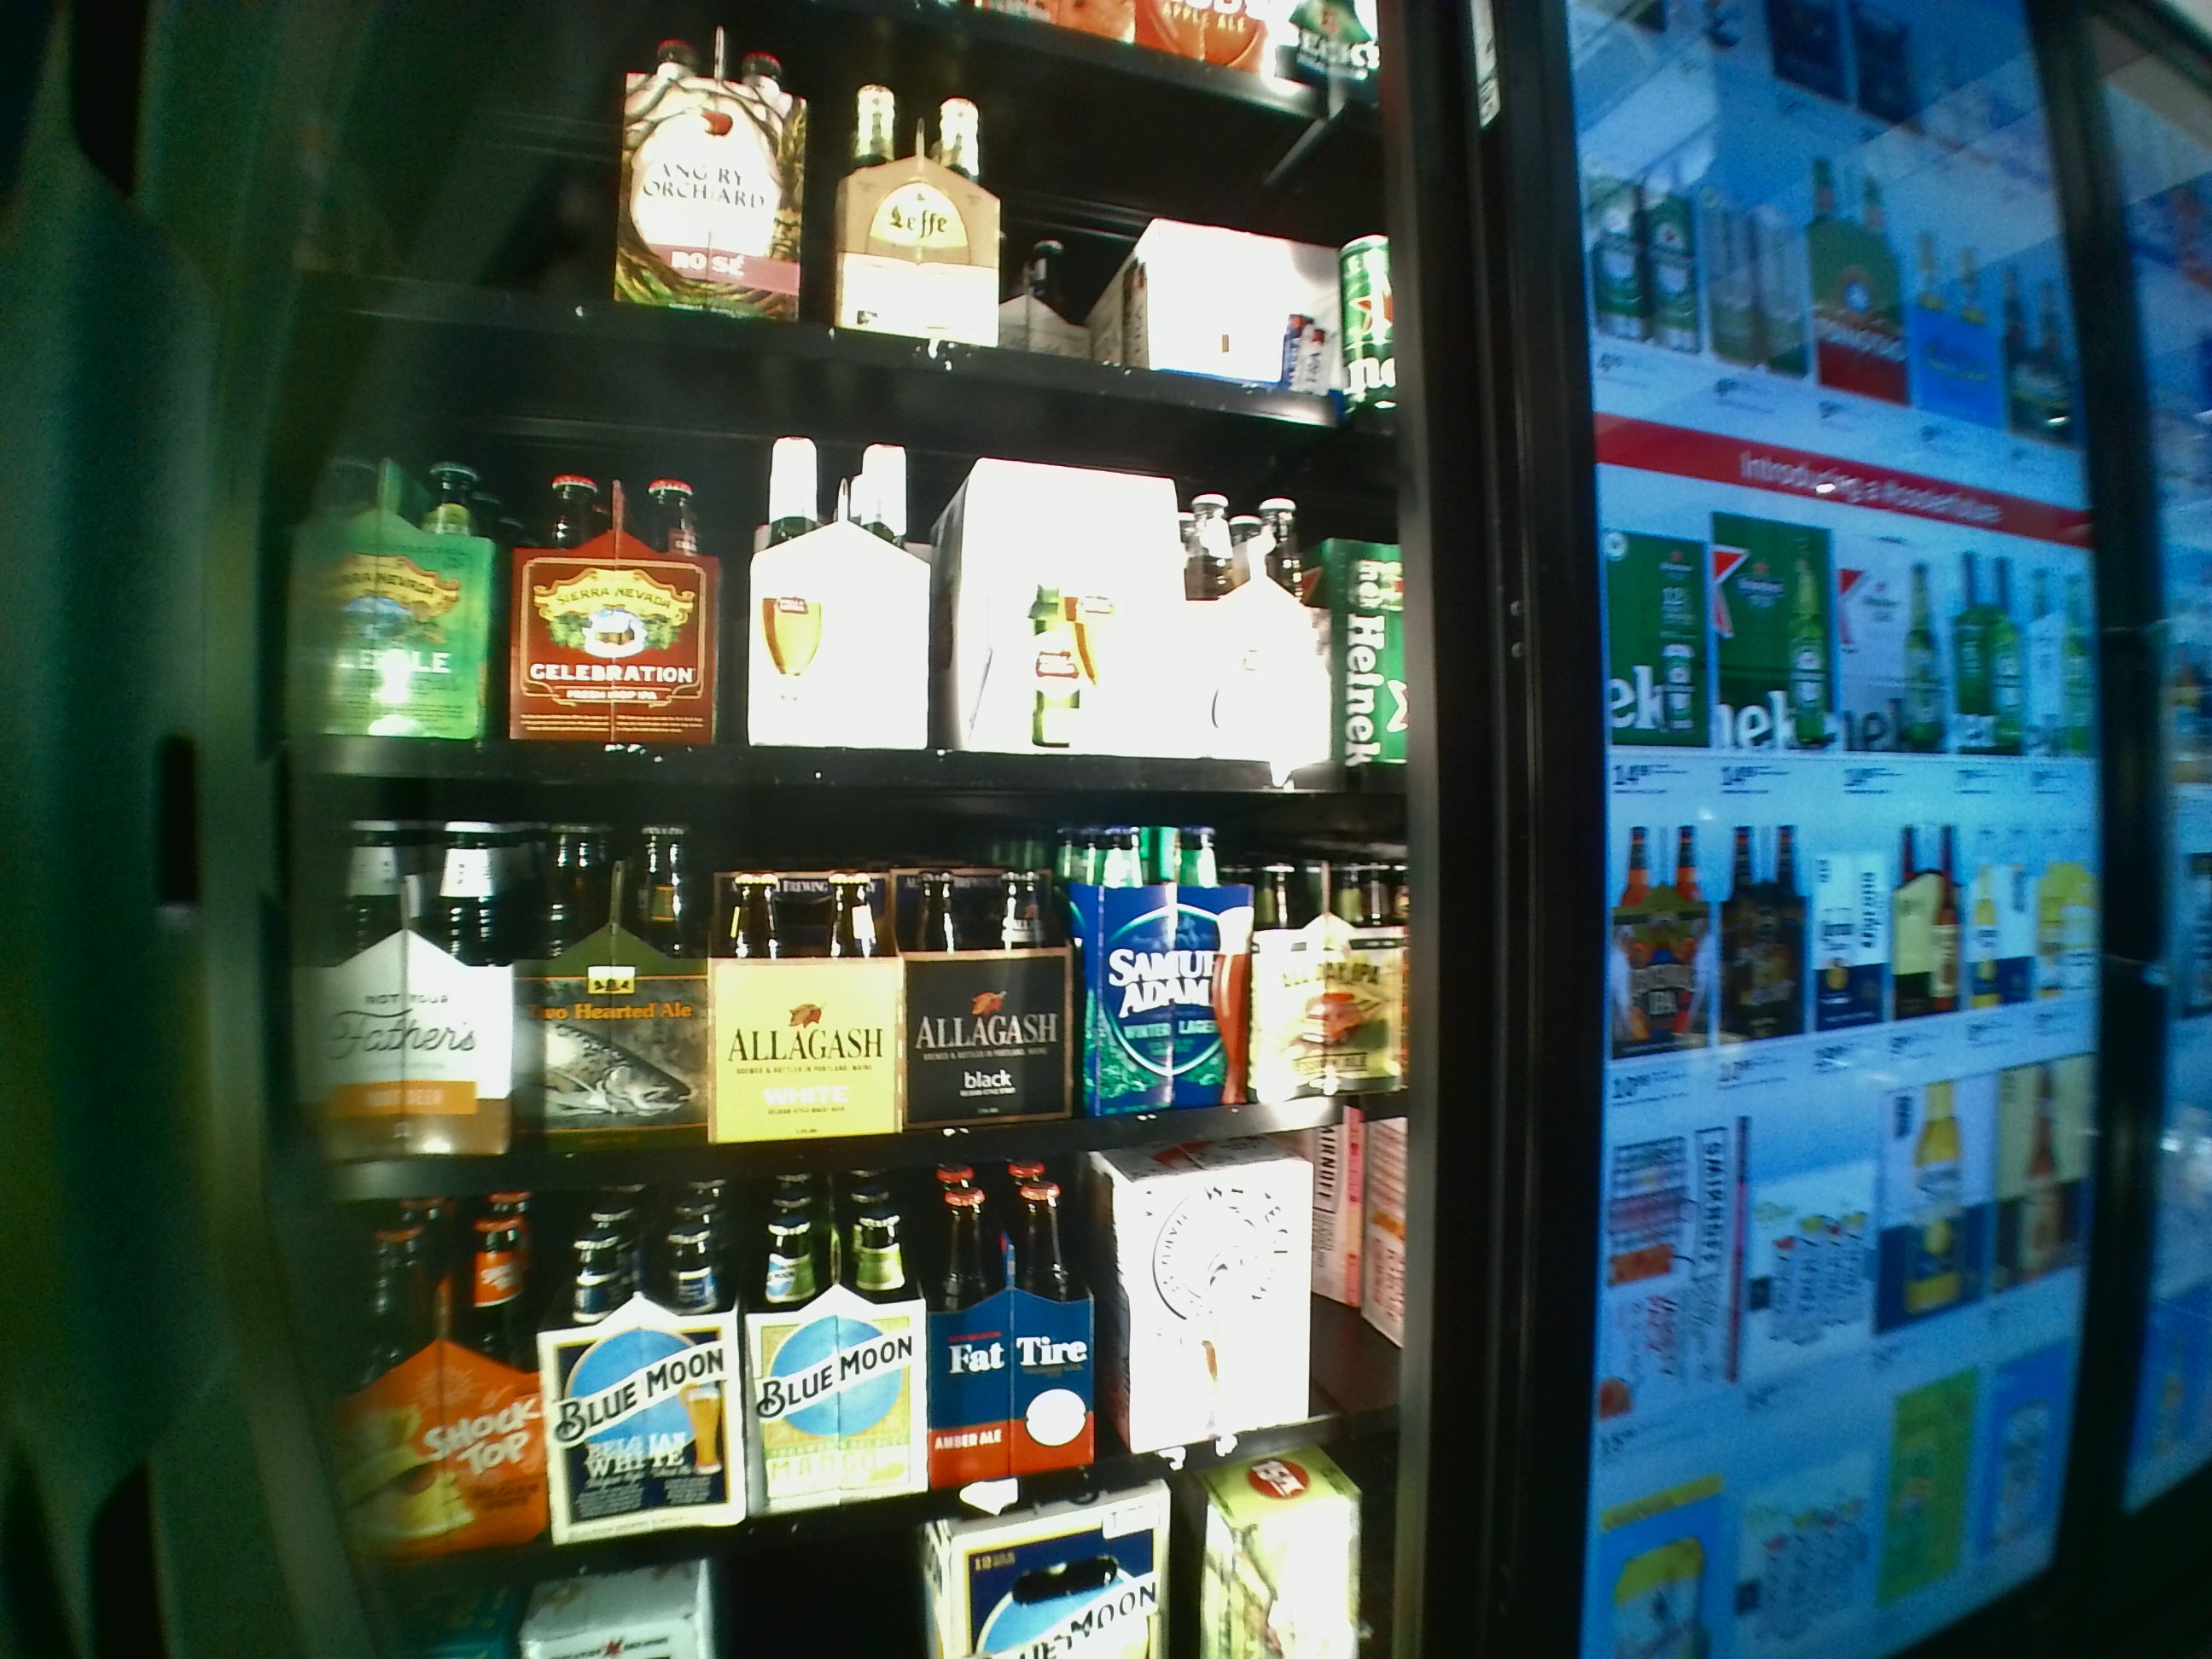shelf: (268, 295, 1406, 788), (265, 803, 1411, 1206)
